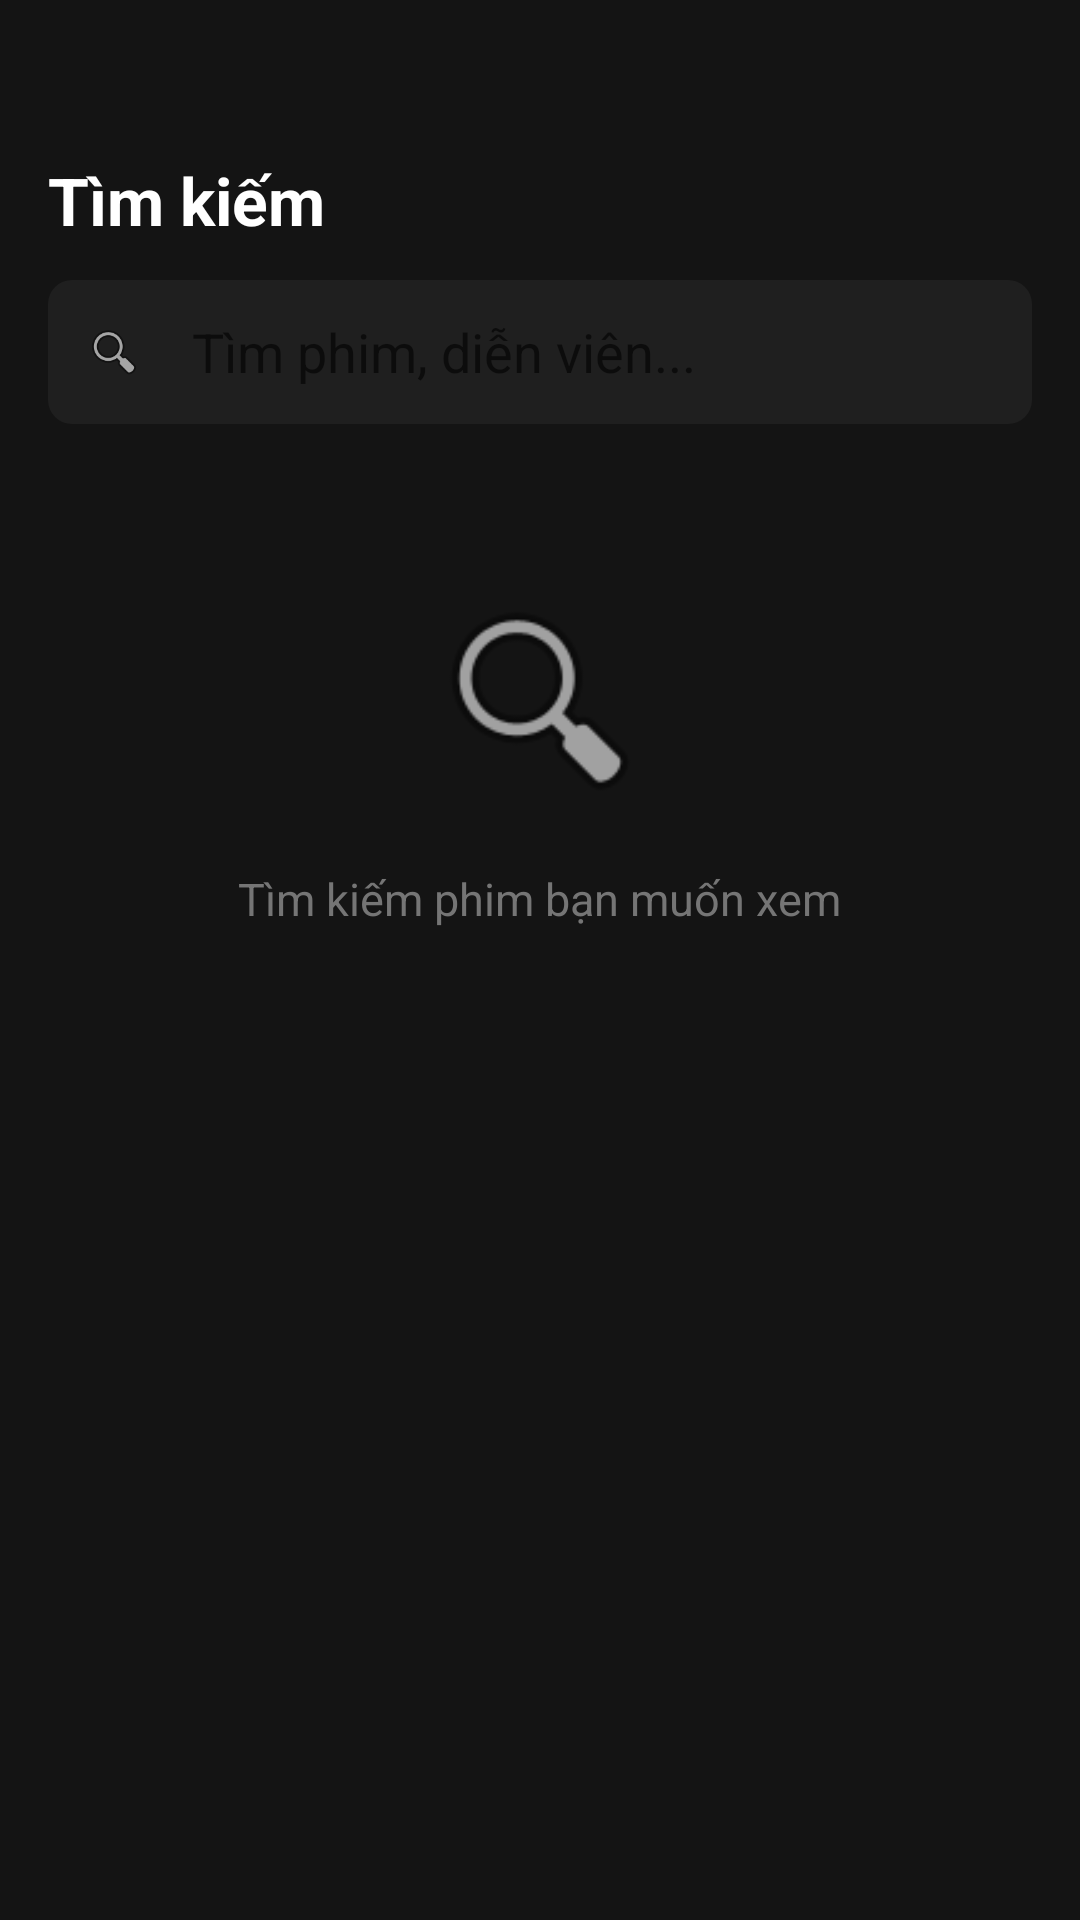

Icon click points for this 1080x1920 phone screenshot, format (x=x, y=y):
search: (x=114, y=352), (x=540, y=701)
